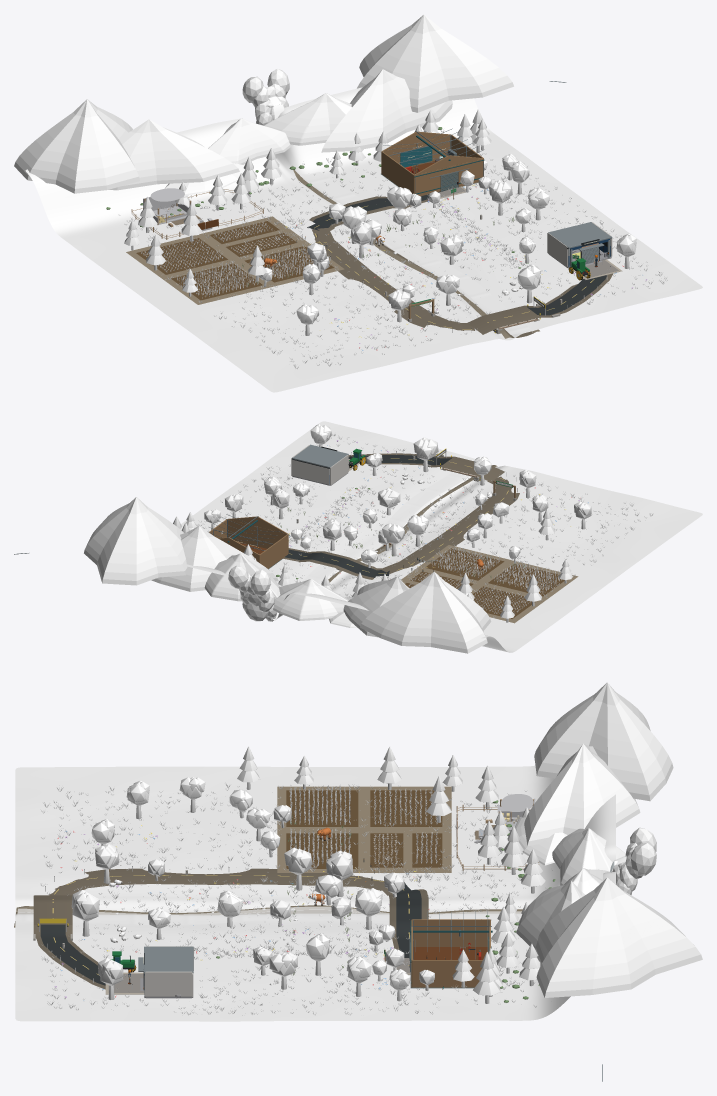
The model's file is farm-world-textured-invalid-no-images.glb.
3 views of the same model, one above another, from view 1: azimuth 30°, elevation 25°; view 2: azimuth 150°, elevation 25°; view 3: azimuth 270°, elevation 25° (orthographic). The views are drawn at different scales.
Parts seen in each view (by area): view 1: FARM_TERRAIN_BASE, MOUNTAIN_06, MOUNTAIN_01, MOUNTAIN_07, MOUNTAIN_02, CROP_FIELD_MAIN, RIVER_WATER, MOUNTAIN_05, RNM_Road_Bridge_To_Farm_GravelSubbase, MOUNTAIN_04, CROP_PLOT_01, CROP_PLOT_03 (+12 smaller); view 2: FARM_TERRAIN_BASE, MOUNTAIN_01, MOUNTAIN_06, MOUNTAIN_07, MOUNTAIN_04, RNM_Road_Bridge_To_Farm_GravelSubbase, CROP_FIELD_MAIN, RIVER_WATER, MOUNTAIN_02, MOUNTAIN_05, CROP_PLOT_02, CROP_PLOT_01 (+17 smaller); view 3: FARM_TERRAIN_BASE, MOUNTAIN_06, MOUNTAIN_01, MOUNTAIN_02, CROP_FIELD_MAIN, RNM_Road_Bridge_To_Farm_GravelSubbase, RIVER_WATER, CROP_PLOT_01, CROP_PLOT_03, MOUNTAIN_04, MOUNTAIN_07, WH_WALL_LEFT (+23 smaller).
Part boxes in pixels (left/top/right/bottom): FARM_TERRAIN_BASE: left=25, top=87, right=702, bottom=392; MOUNTAIN_06: left=357, top=14, right=513, bottom=112; MOUNTAIN_01: left=14, top=99, right=139, bottom=193; MOUNTAIN_07: left=321, top=69, right=452, bottom=152; MOUNTAIN_02: left=108, top=119, right=239, bottom=190; CROP_FIELD_MAIN: left=126, top=216, right=344, bottom=304; RIVER_WATER: left=301, top=172, right=531, bottom=334; MOUNTAIN_05: left=264, top=93, right=351, bottom=145; RNM_Road_Bridge_To_Farm_GravelSubbase: left=311, top=228, right=474, bottom=330; MOUNTAIN_04: left=208, top=118, right=292, bottom=164; CROP_PLOT_01: left=171, top=263, right=262, bottom=300; CROP_PLOT_03: left=136, top=238, right=227, bottom=274; FARM_TERRAIN_BASE: left=181, top=421, right=702, bottom=652; MOUNTAIN_01: left=360, top=571, right=491, bottom=653; MOUNTAIN_06: left=84, top=497, right=187, bottom=585; MOUNTAIN_07: left=151, top=526, right=278, bottom=591; MOUNTAIN_04: left=273, top=579, right=348, bottom=620; RNM_Road_Bridge_To_Farm_GravelSubbase: left=380, top=476, right=519, bottom=573; CROP_FIELD_MAIN: left=401, top=545, right=578, bottom=623; RIVER_WATER: left=302, top=458, right=491, bottom=583; MOUNTAIN_02: left=343, top=576, right=409, bottom=637; MOUNTAIN_05: left=204, top=553, right=280, bottom=601; CROP_PLOT_02: left=425, top=548, right=504, bottom=580; CROP_PLOT_01: left=488, top=564, right=564, bottom=596; FARM_TERRAIN_BASE: left=15, top=765, right=615, bottom=1021; MOUNTAIN_06: left=536, top=877, right=702, bottom=997; MOUNTAIN_01: left=534, top=682, right=673, bottom=801; MOUNTAIN_02: left=524, top=743, right=640, bottom=845; CROP_FIELD_MAIN: left=277, top=786, right=451, bottom=872; RNM_Road_Bridge_To_Farm_GravelSubbase: left=49, top=868, right=388, bottom=895; RIVER_WATER: left=16, top=906, right=522, bottom=925; CROP_PLOT_01: left=286, top=790, right=358, bottom=826; CROP_PLOT_03: left=370, top=790, right=442, bottom=826; MOUNTAIN_04: left=552, top=828, right=625, bottom=885; MOUNTAIN_07: left=516, top=881, right=585, bottom=965; WH_WALL_LEFT: left=412, top=919, right=489, bottom=946.
Bounding box in the file's own units: 124 × 23.73 × 115.
